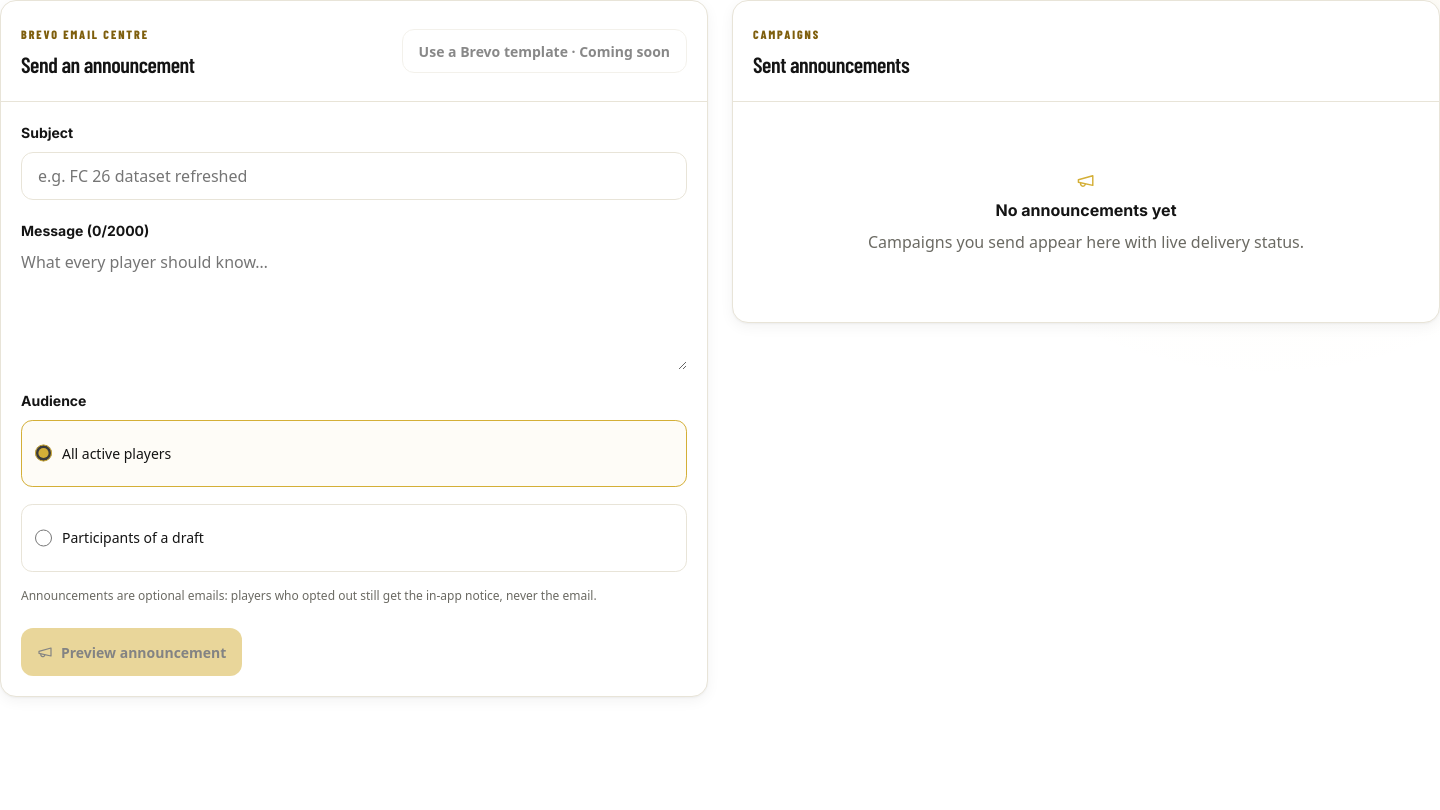
Test: AdminCommunicationsPage (PR-21 §9.8) › offers the draft-participants audience with a draft selector
In the field labelled "Subject": point(354, 176) x1=21 y1=152 x2=687 y2=200, type "Ready?"
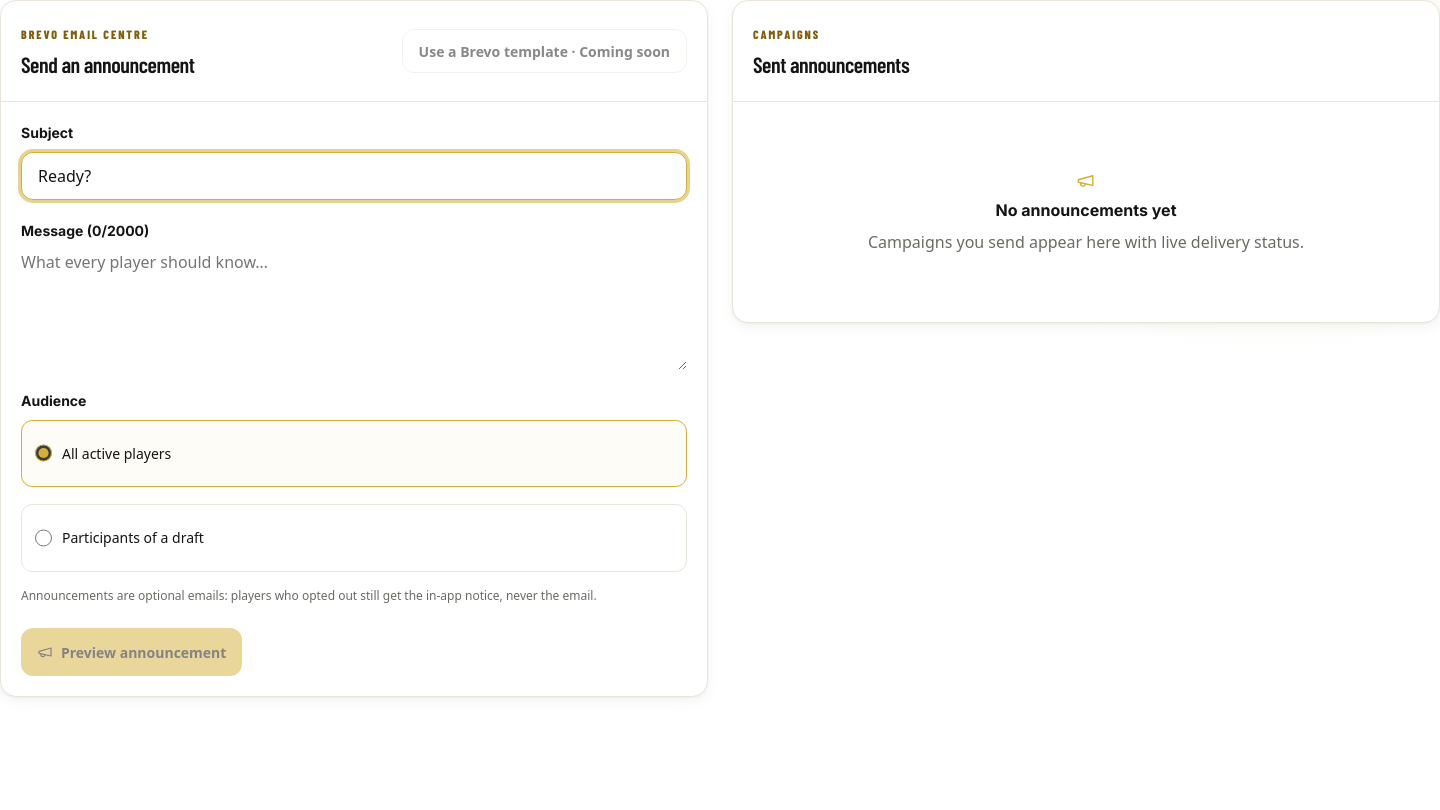
In the text box labelled "Message (0/2000)": point(354, 310) x1=21 y1=250 x2=687 y2=370, type "Kick-off soon."
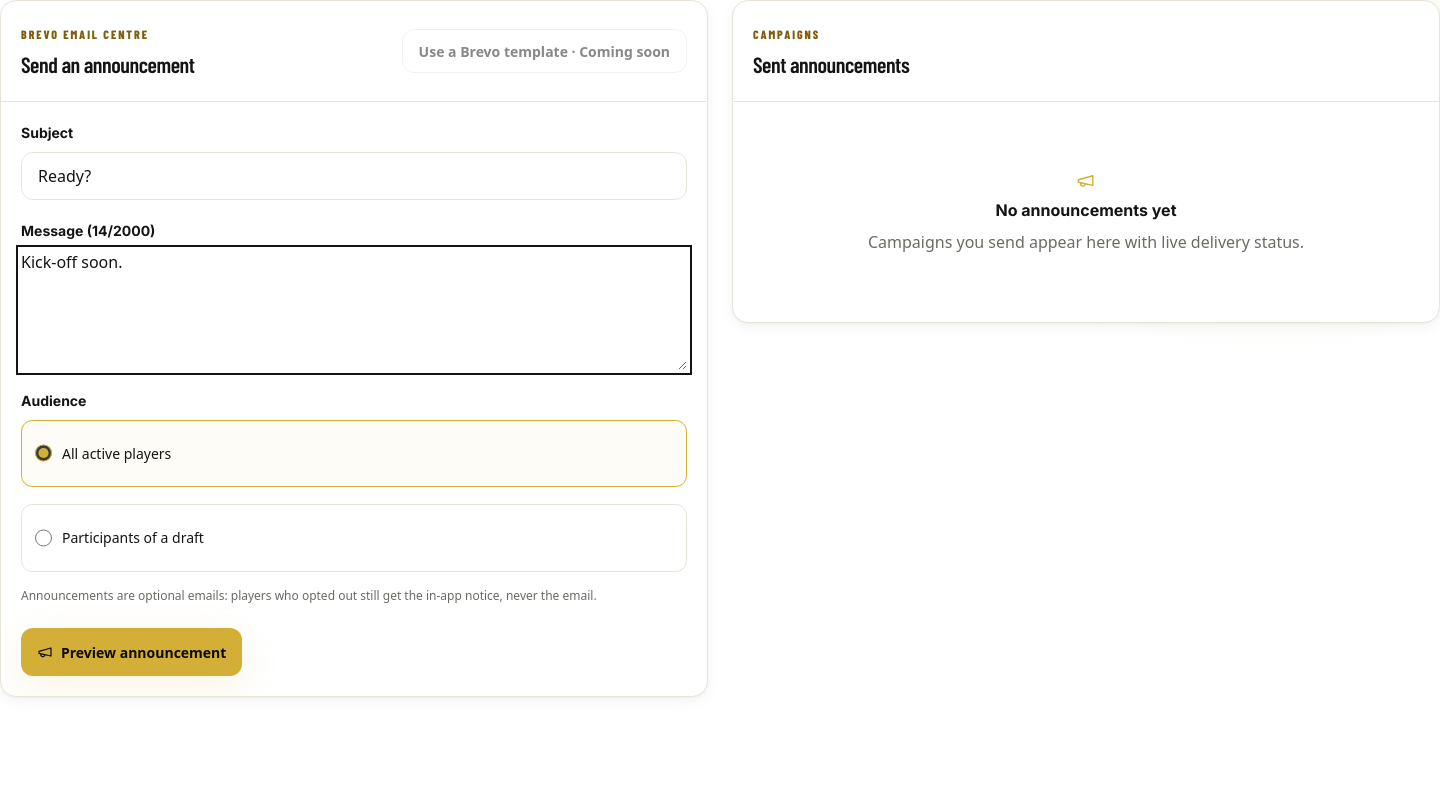
Click the radio button labelled "Participants of a draft": point(44, 538) x1=35 y1=514 x2=52 y2=562
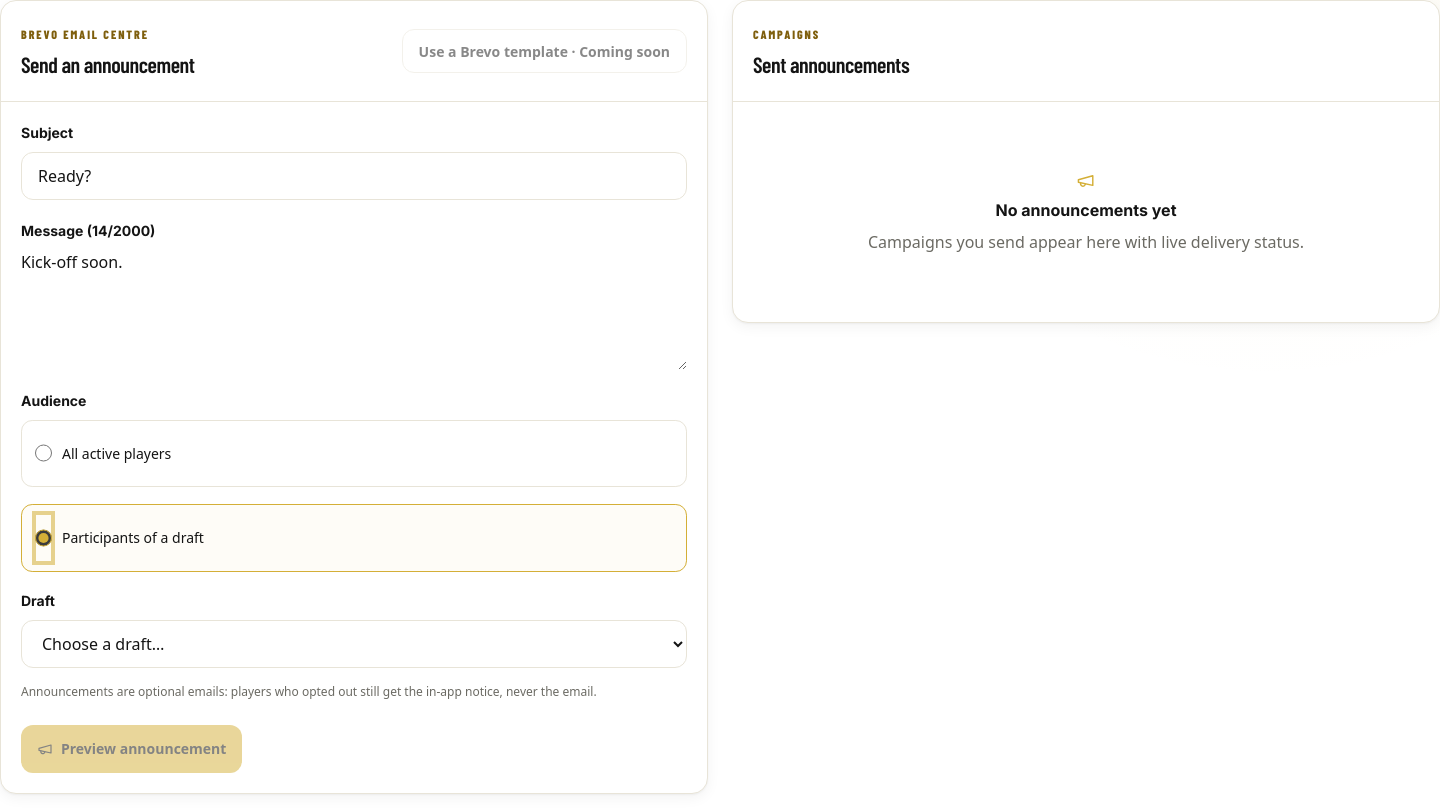
Expected: the button "Preview announcement" is disabled, x1=21 y1=724 x2=242 y2=772
Select "Tuesday Draft · ABC123" in the dropdown labelled "Draft": point(354, 644) x1=21 y1=620 x2=687 y2=668
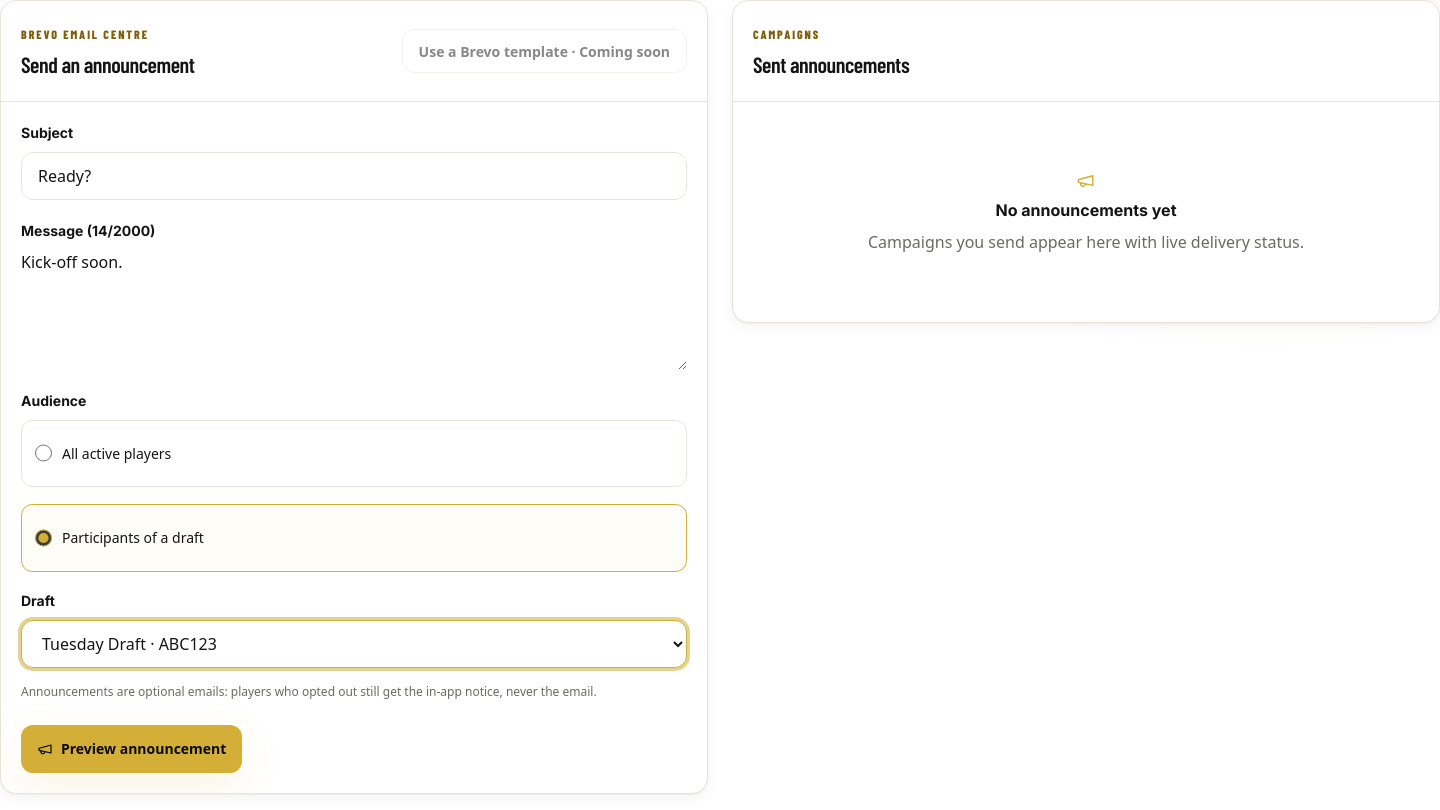
Expected: the button "Preview announcement" is enabled
Click the button "Preview announcement": point(132, 748) x1=21 y1=724 x2=242 y2=772
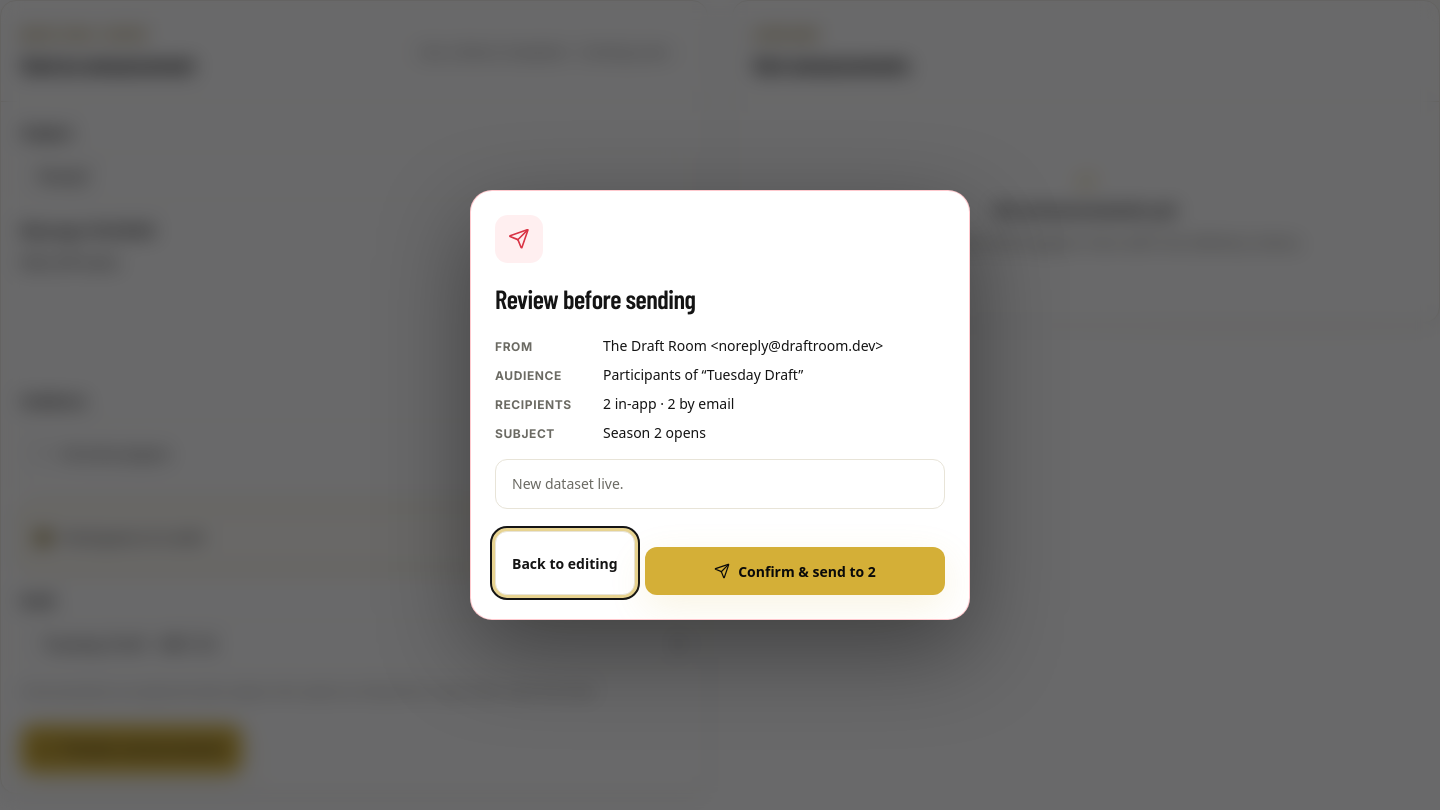
Expected: the dialog "Review before sending" is shown, x1=470 y1=190 x2=970 y2=620
